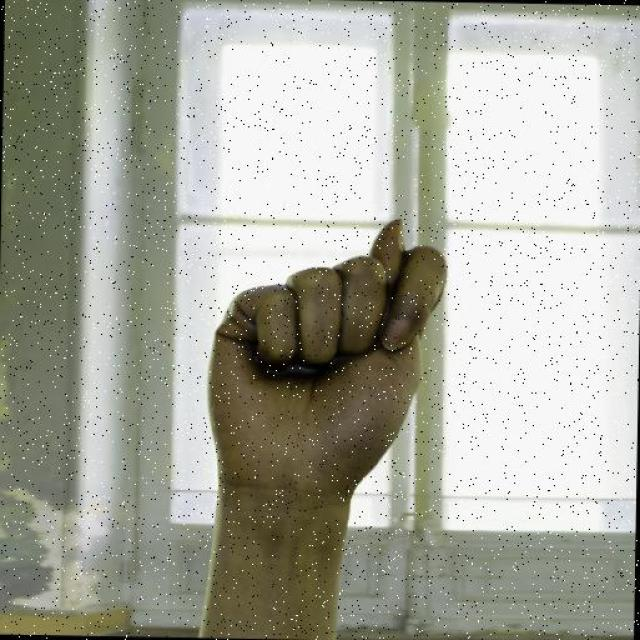T: (202, 209, 454, 502)
